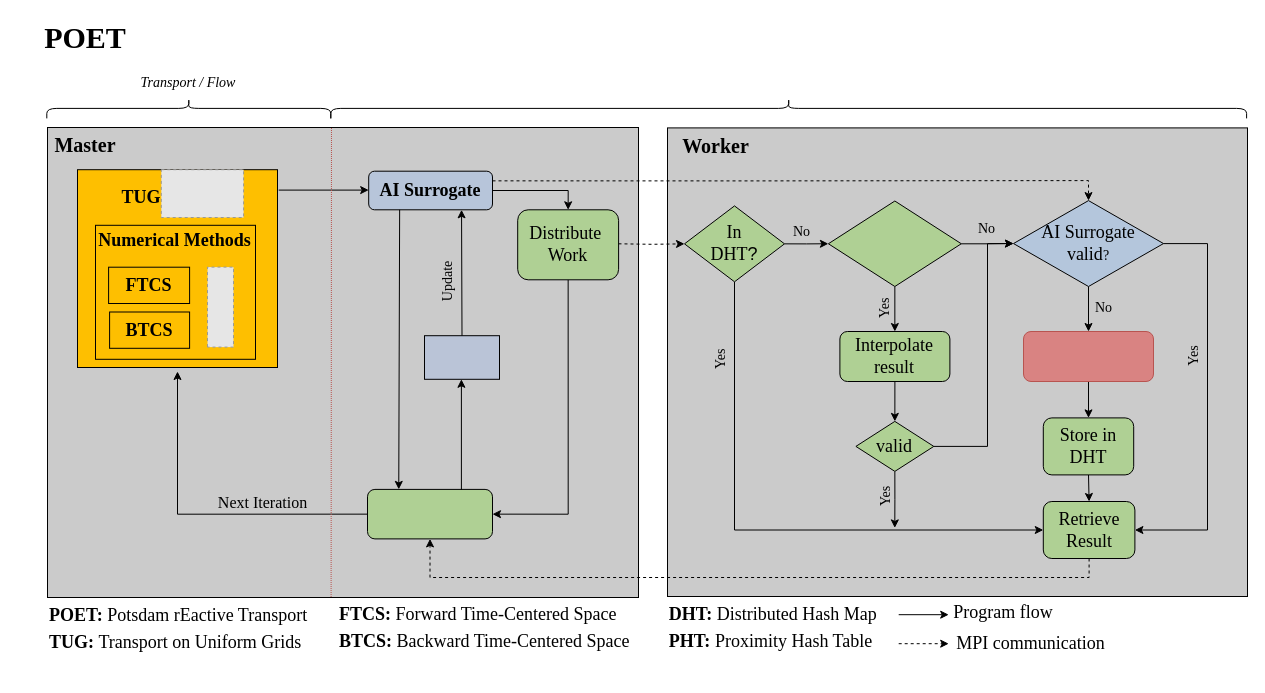
Some shapes in this 1265 by 693 pixel diagram are drawn without their labels. Grey dashed boxes stand in for pictures. The box of each missing label's shape, as (x1, y1, x2, y2) in pixels:
Chemistry: (330, 97, 1247, 118)
Gather Work: (366, 488, 492, 539)
Online Training: (424, 335, 500, 379)
PHREEQC: (1022, 330, 1154, 382)
PHT activated?: (827, 200, 961, 286)
